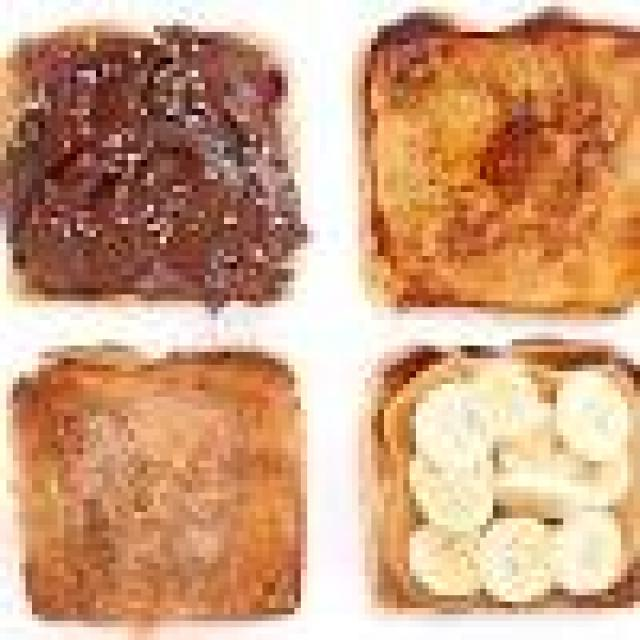Bread: (11, 25, 304, 303), (366, 15, 640, 309), (15, 354, 299, 617)
